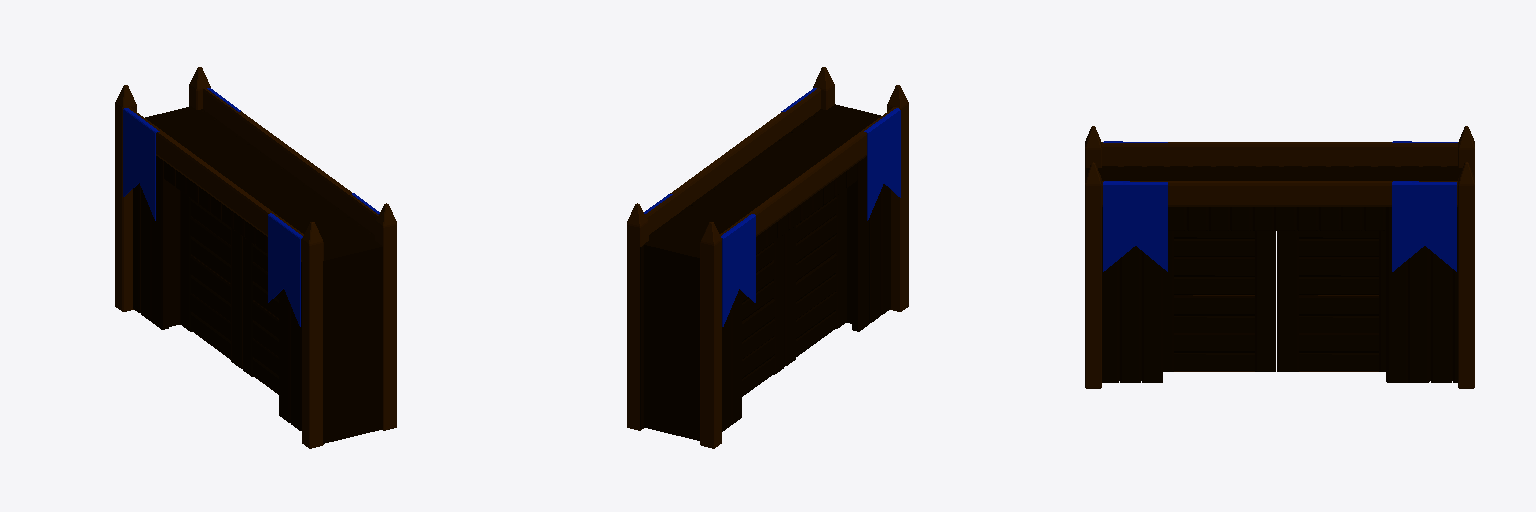
File: Gate_Level1_BlueTeam.obj
3 views of the same model, side by side, from view 1: azimuth 30°, elevation 25°; view 2: azimuth 150°, elevation 25°; view 3: azimuth 270°, elevation 25° (orthographic).
Parts seen in each view (by area): view 1: Gate_Level1_BlueTeam_Cube.003; view 2: Gate_Level1_BlueTeam_Cube.003; view 3: Gate_Level1_BlueTeam_Cube.003.
Part boxes in pixels (left/top/right/bottom): Gate_Level1_BlueTeam_Cube.003: left=115, top=67, right=396, bottom=448; Gate_Level1_BlueTeam_Cube.003: left=627, top=67, right=908, bottom=448; Gate_Level1_BlueTeam_Cube.003: left=1085, top=126, right=1474, bottom=388.
Size of the model in its own units: 9.8 by 23.5 by 37.27.